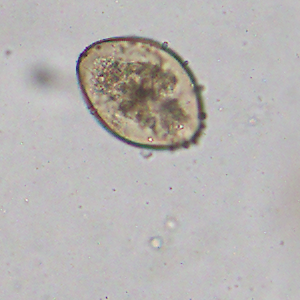Fasciola_hepatica_egg: (74, 35, 206, 150)
